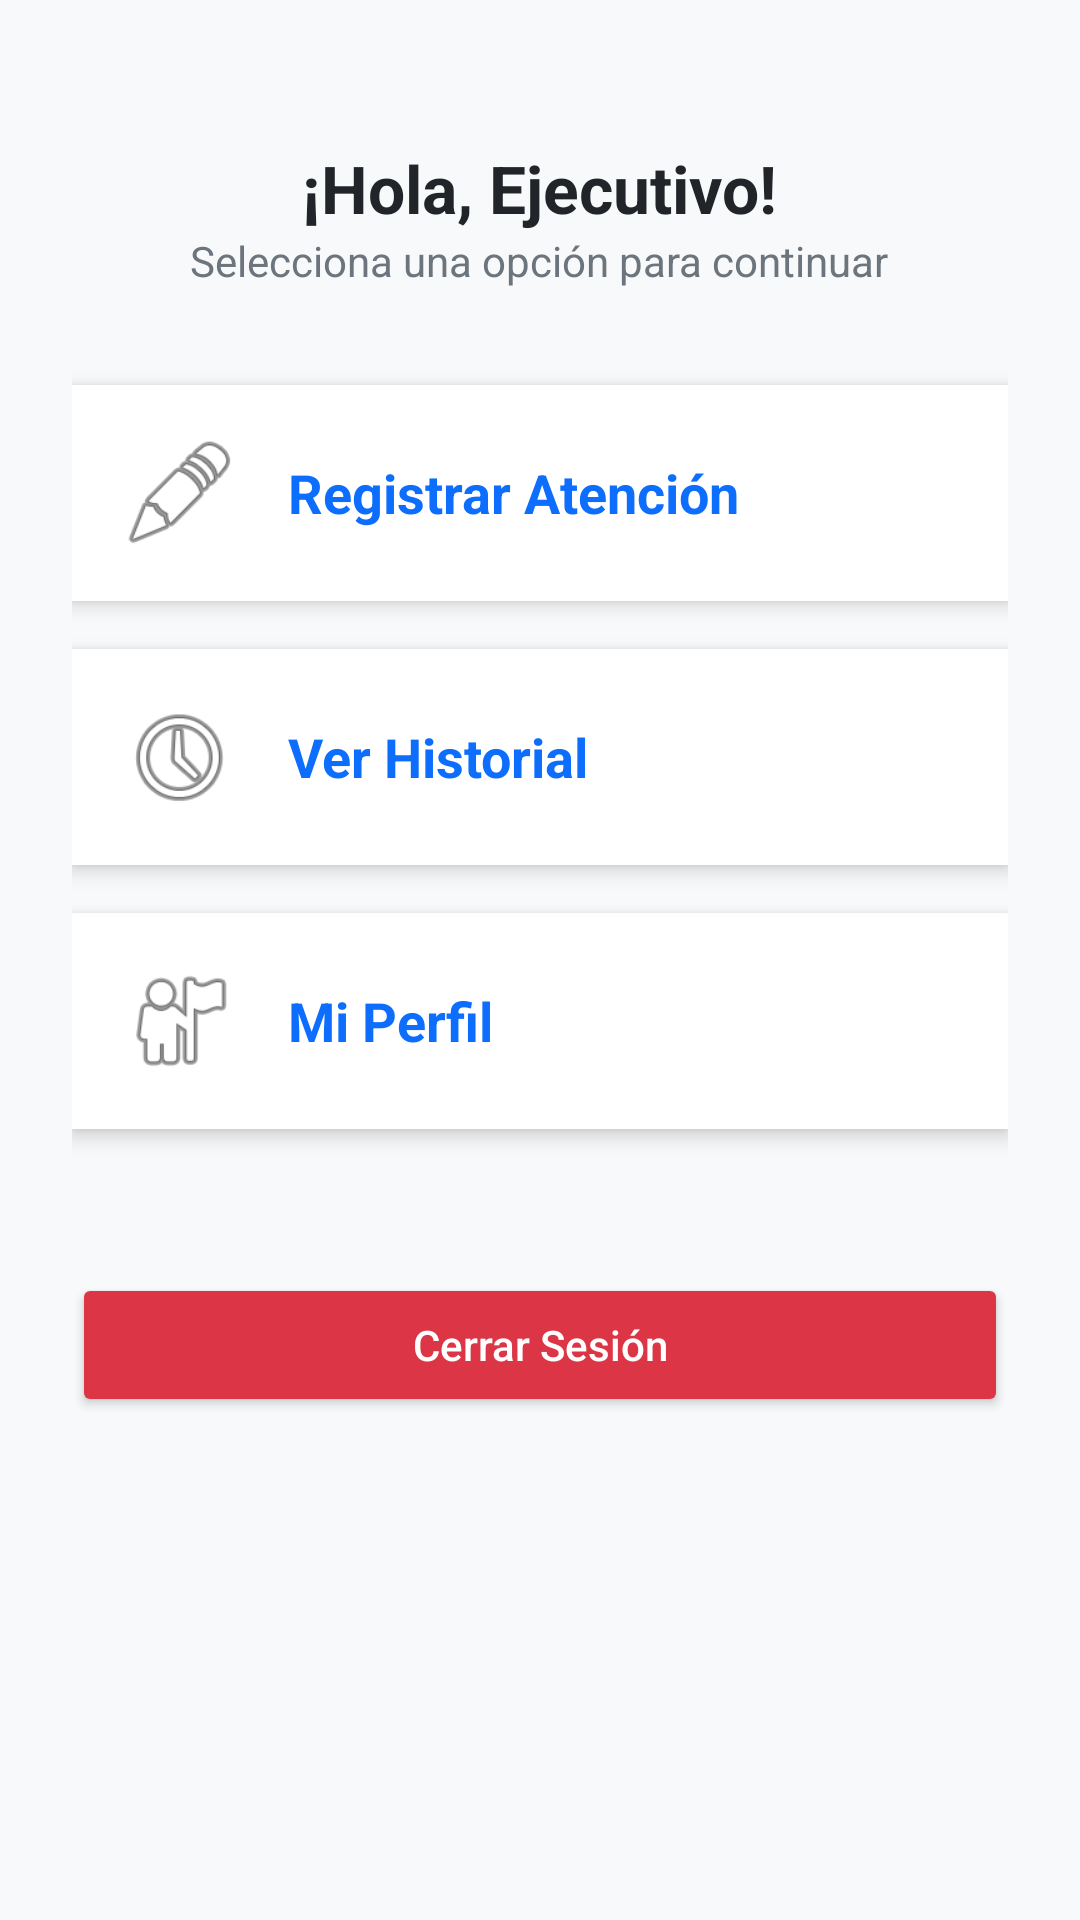

Screen size 1080px x 1920px. Icon name, then its box in pixels as rect(x1, y1, x2, y2):
Icono historial: rect(136, 714, 223, 801)
Icono perfil: rect(136, 976, 226, 1066)
Icono registrar: rect(129, 441, 230, 543)
